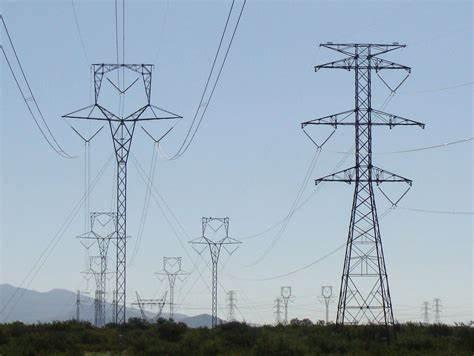power_tower: (58, 57, 187, 335), (305, 32, 417, 345), (190, 205, 244, 331), (78, 206, 125, 324), (156, 249, 187, 323)
